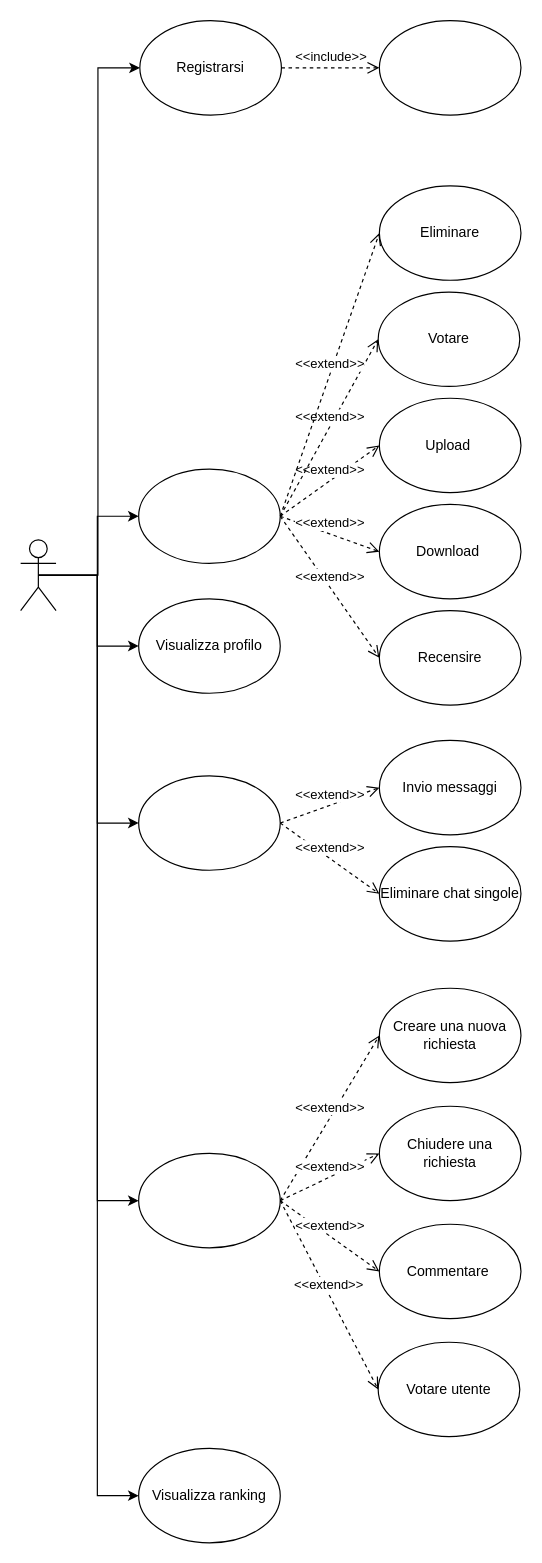
This 542x1563 diagram has some shape labels left out. The shapes that lost their labels are listed below. From the top down, each one's centre as x and y in pixels, then its label:
At point 449,67: "Log-in".
At point 208,515: "Visualizza note".
At point 37,575: "Actor".
At point 208,822: "Visualizza chat singole o di gruppo".
At point 208,1200: "Visualizza richieste".
